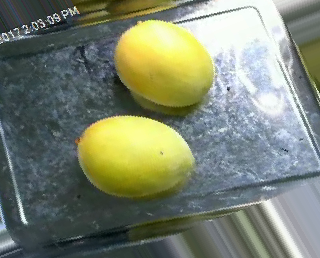Mango: (75, 115, 194, 197), (114, 21, 213, 105)
